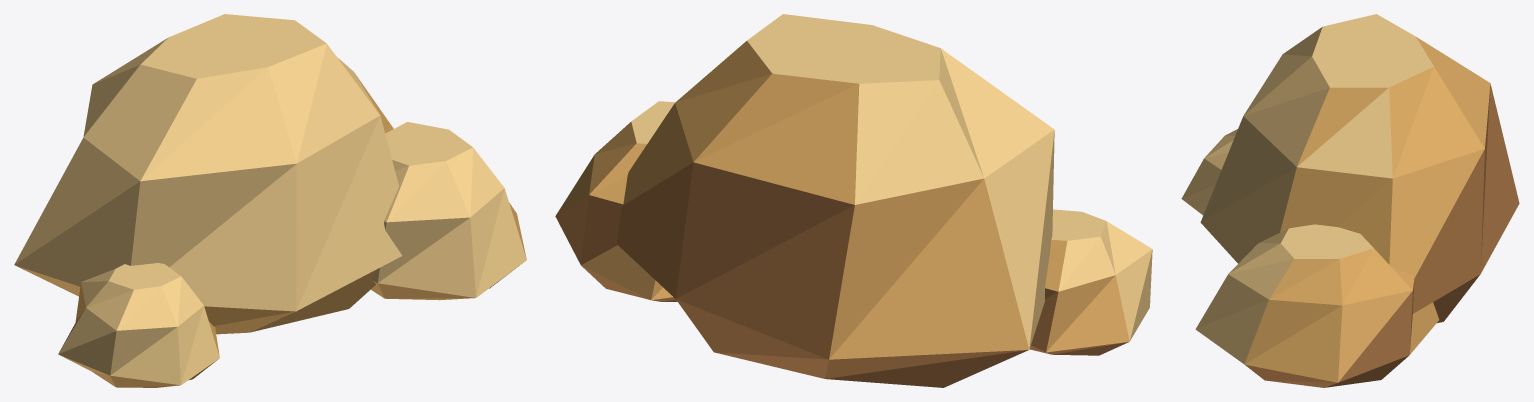
The model's file is RochaArenito.fbx.
3 views of the same model, side by side, from view 1: azimuth 30°, elevation 25°; view 2: azimuth 150°, elevation 25°; view 3: azimuth 270°, elevation 25° (orthographic). The views are drawn at different scales.
Visible parts, largest first — view 1: RochaArenito_Solido_3, RochaArenito_Solido_2; view 2: RochaArenito_Solido_2, RochaArenito_Solido_3, RochaArenito_Solido_1; view 3: RochaArenito_Solido_2, RochaArenito_Solido_3, RochaArenito_Solido_1.
Part boxes in pixels (x1,y1,x2,y2): RochaArenito_Solido_3: [14, 14, 526, 385]; RochaArenito_Solido_2: [15, 74, 526, 387]; RochaArenito_Solido_2: [556, 41, 1129, 359]; RochaArenito_Solido_3: [631, 14, 1152, 349]; RochaArenito_Solido_1: [555, 162, 1128, 387]; RochaArenito_Solido_2: [1244, 37, 1490, 382]; RochaArenito_Solido_3: [1181, 14, 1433, 364]; RochaArenito_Solido_1: [1245, 83, 1519, 387].
Size of the model in its own units: 581 by 290 by 379.
